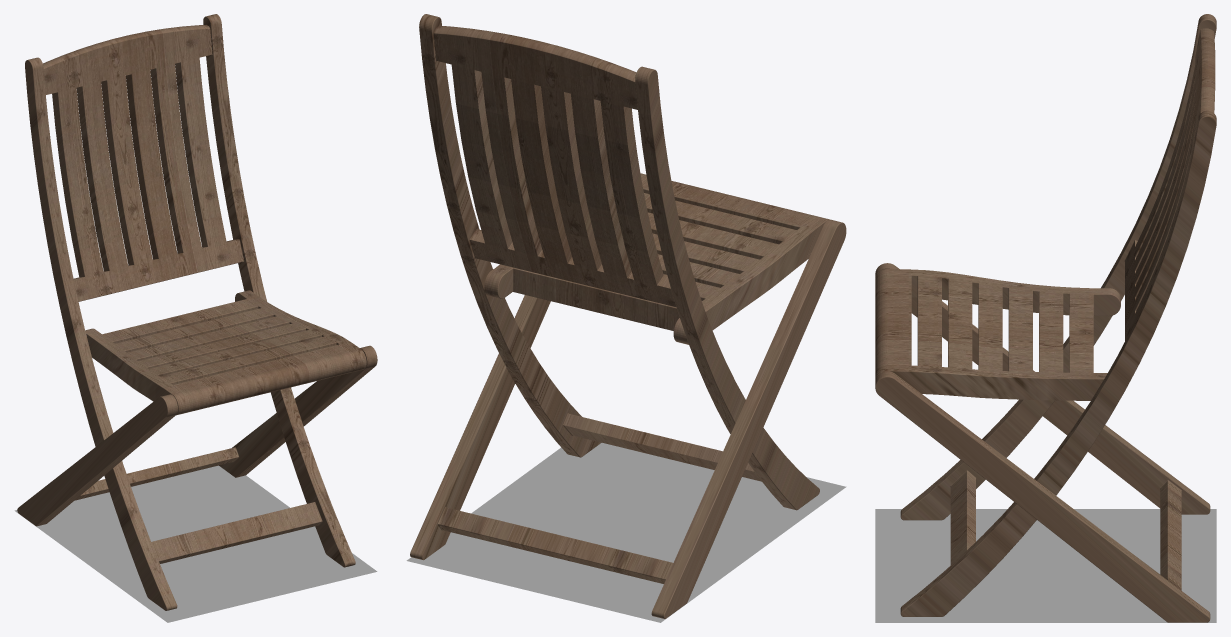
Rendered from Wooden_Chair.obj.
3 renders of one model, left to right at view 1: azimuth 30°, elevation 25°; view 2: azimuth 150°, elevation 25°; view 3: azimuth 270°, elevation 25°, orthographic. The views are drawn at different scales.
Parts seen in each view (by area): view 1: default_1_2, ground_1; view 2: default_1_2, ground_1; view 3: default_1_2, ground_1.
Boxes of the visible parts, x1=… form: default_1_2: x1=17, y1=14, x2=377, y2=610; ground_1: x1=14, y1=465, x2=377, y2=622; default_1_2: x1=410, y1=14, x2=846, y2=618; ground_1: x1=406, y1=443, x2=846, y2=622; default_1_2: x1=875, y1=14, x2=1216, y2=622; ground_1: x1=875, y1=509, x2=1216, y2=622.
Size of the model in its own units: 44.4 by 91 by 56.2.
Materials: 2 (1 with a texture image).
